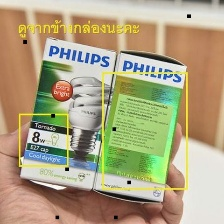carton: (17, 32, 121, 197), (89, 46, 188, 208)
